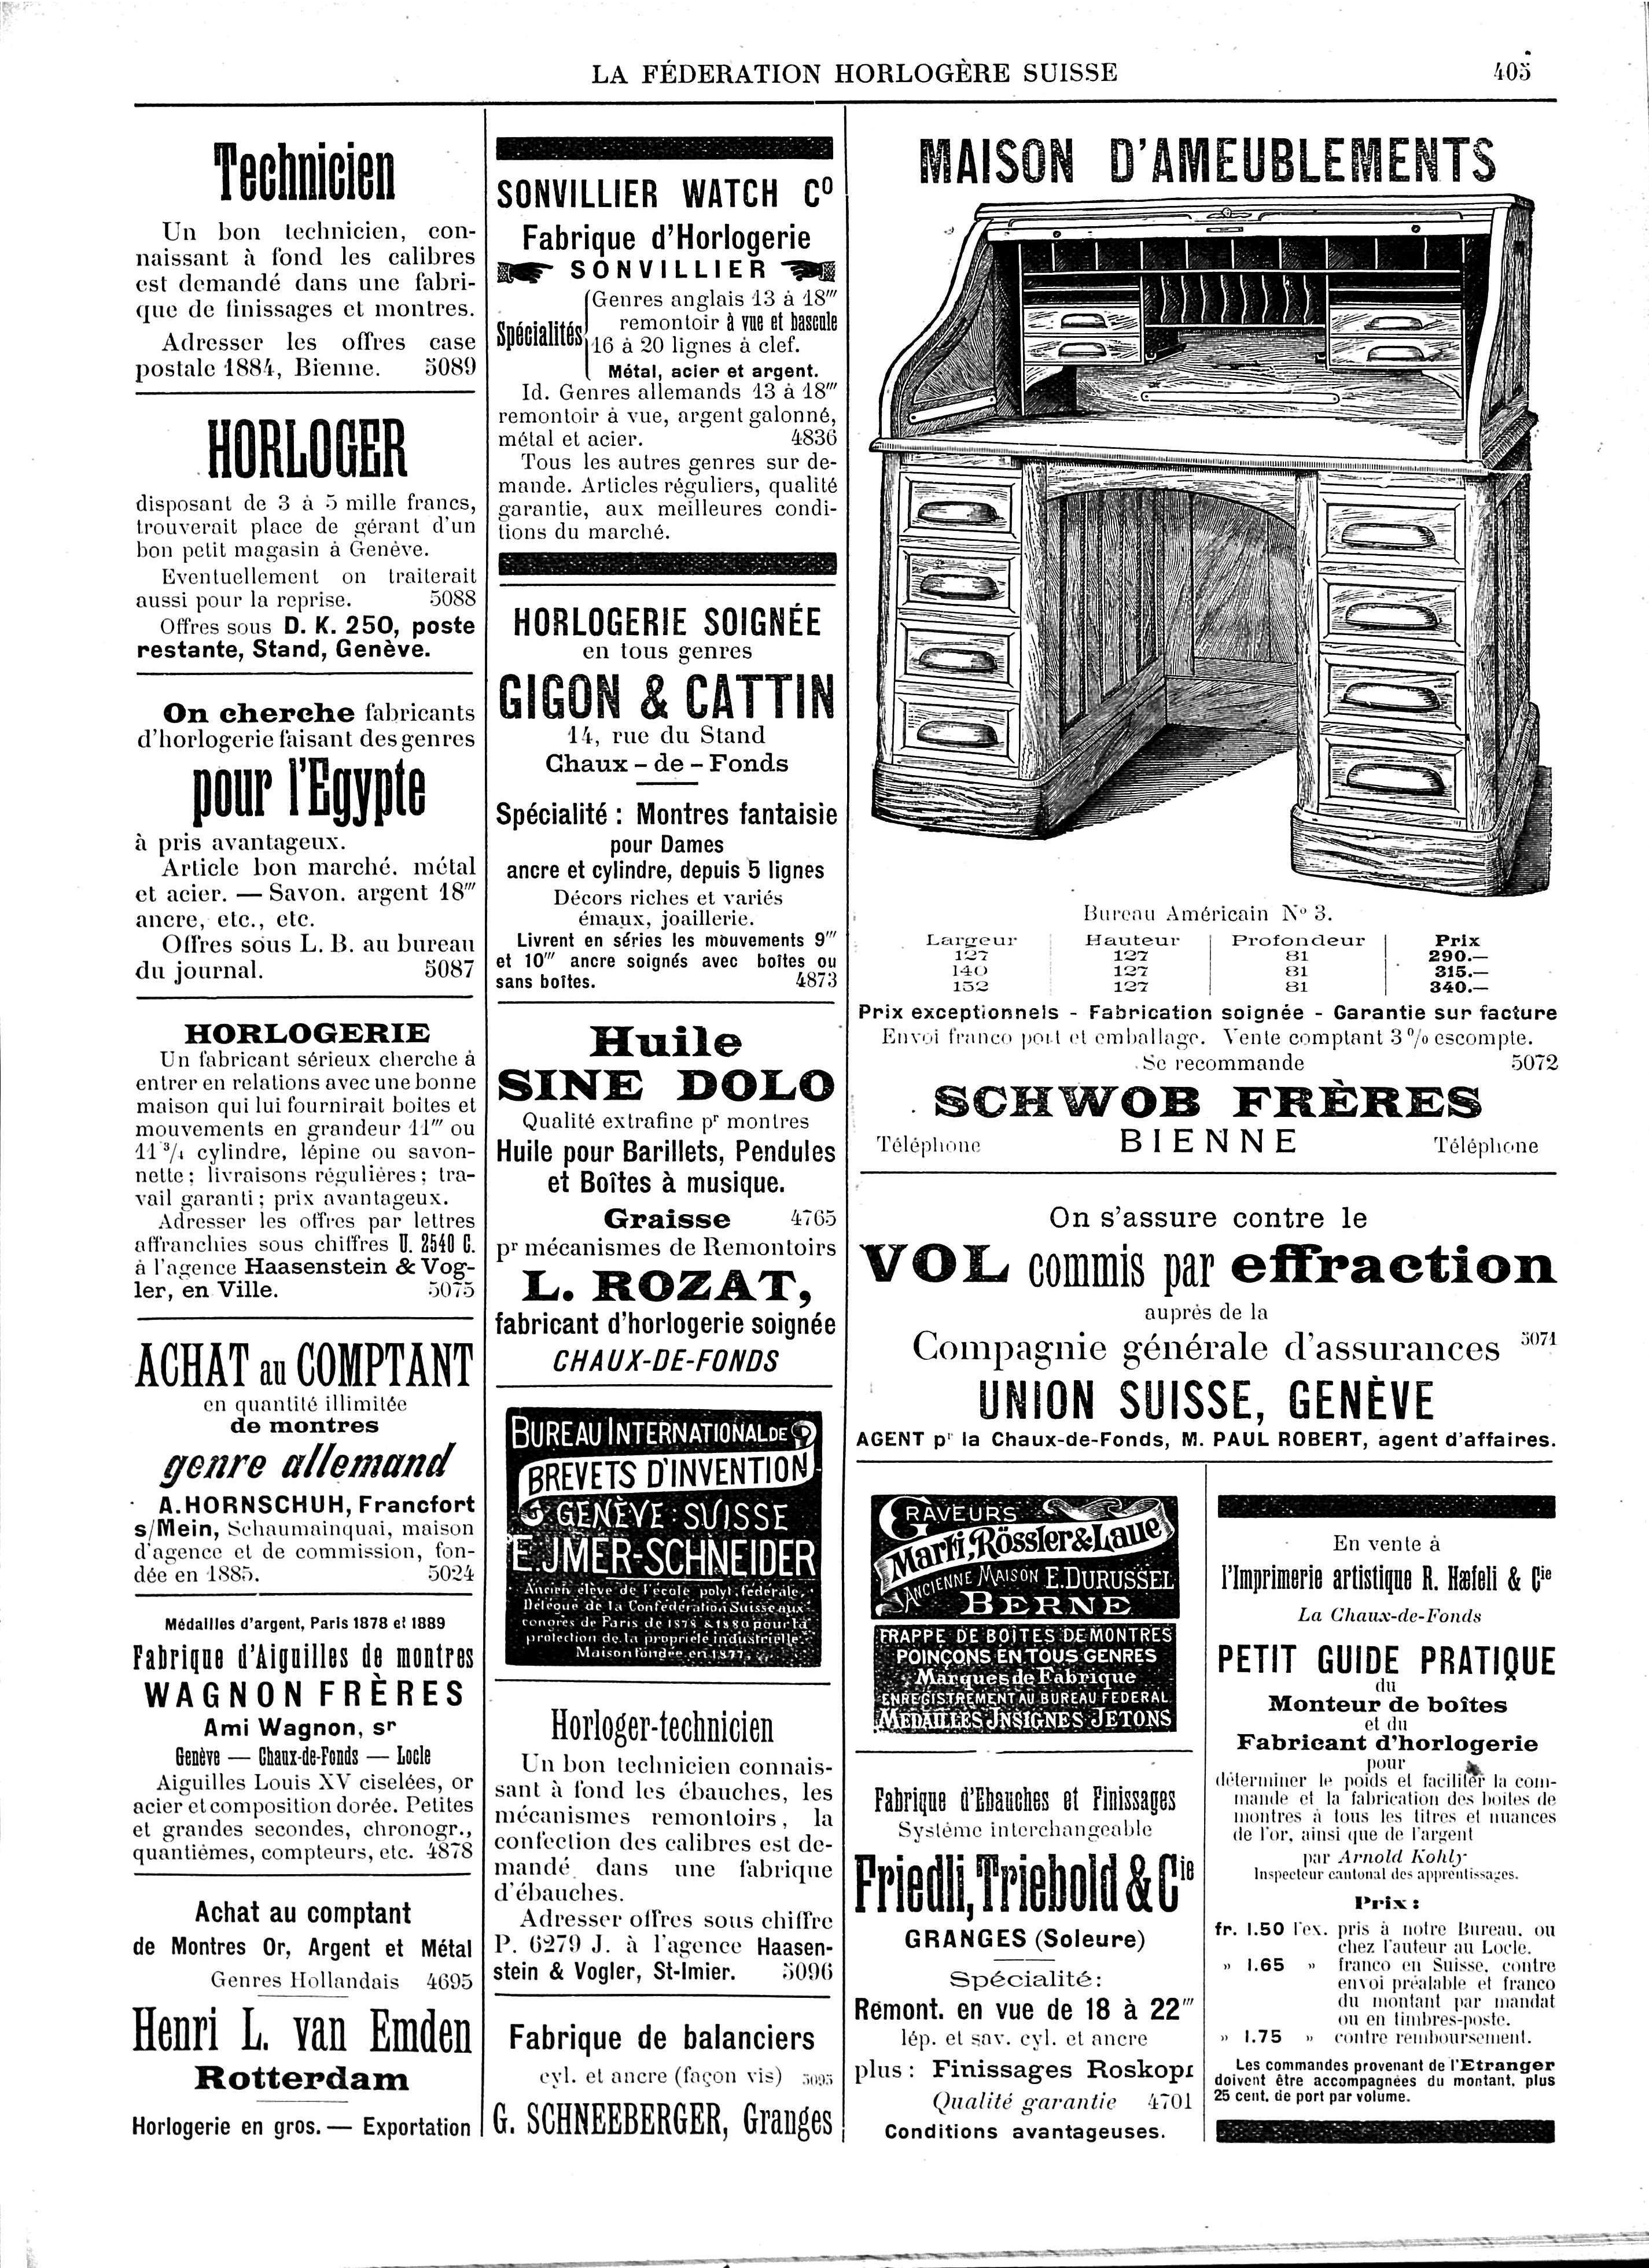figure: (893, 213, 1540, 896), (500, 1402, 816, 1666), (874, 1495, 1186, 1738), (120, 1632, 479, 1719), (860, 1935, 1193, 2025), (134, 1338, 470, 1395), (157, 1442, 440, 1486)
section: (856, 1782, 1179, 1925), (497, 597, 826, 736), (867, 1236, 1543, 1296), (500, 1020, 826, 1125), (920, 137, 1506, 183), (972, 1386, 1450, 1432), (134, 2002, 460, 2065), (1233, 1692, 1536, 1756), (927, 1079, 1489, 1113), (1233, 1543, 1556, 1599), (146, 1905, 456, 1958), (1212, 1636, 1570, 1682), (183, 759, 426, 822), (506, 2011, 816, 2058), (203, 139, 400, 210), (500, 173, 809, 213), (203, 414, 407, 474), (550, 1701, 782, 1741), (180, 1734, 444, 1768), (520, 227, 805, 257), (509, 1271, 789, 1300), (187, 1016, 433, 1046), (197, 2074, 423, 2097)
table: (913, 919, 1515, 1009)
text: (497, 266, 837, 542), (493, 759, 826, 990), (139, 497, 474, 662), (139, 833, 479, 993), (139, 220, 476, 379), (1212, 1909, 1563, 2055), (500, 1752, 833, 1905), (137, 1058, 476, 1199), (127, 1771, 479, 1879), (1209, 1768, 1556, 1875), (137, 1213, 476, 1315), (867, 1005, 1563, 1053), (139, 1490, 476, 1585), (502, 1912, 840, 1988), (497, 1312, 846, 1382), (913, 1326, 1512, 1366), (500, 2095, 849, 2145), (853, 2039, 1196, 2088), (490, 1139, 826, 1189), (502, 1213, 830, 1263), (143, 699, 467, 747), (1212, 2069, 1549, 2108), (580, 63, 1122, 86), (893, 2104, 1175, 2145), (134, 2108, 470, 2141), (1117, 1129, 1297, 1166), (1439, 1132, 1547, 1166), (870, 1132, 994, 1159)
